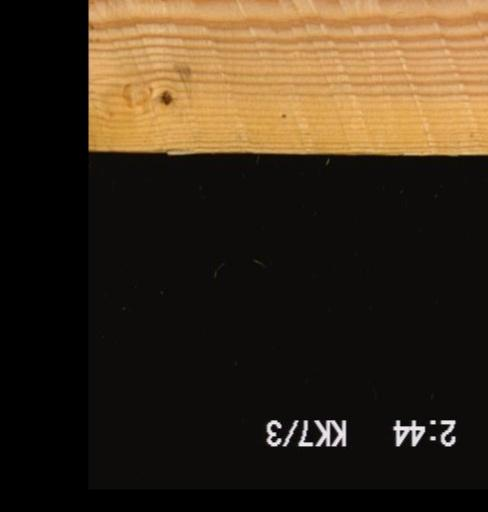dry_knot: (151, 85, 179, 112)
